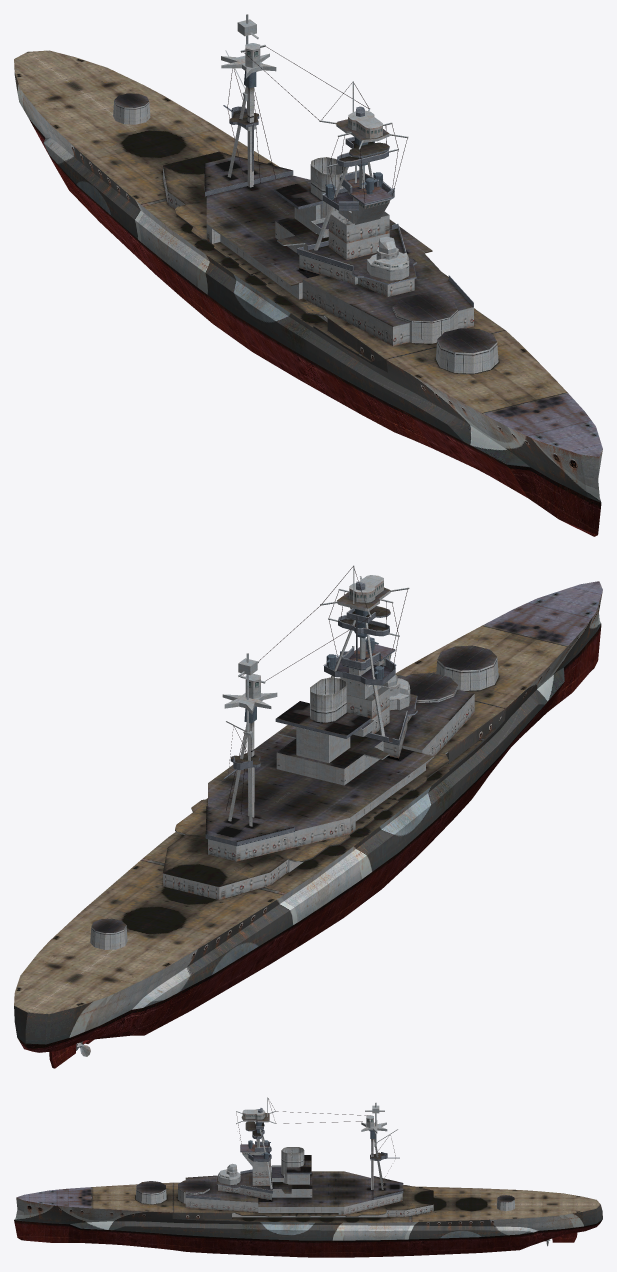
The model's file is Ship_2.FBX.
The picture shows the model from 3 angles, top to bottom: view 1: azimuth 30°, elevation 25°; view 2: azimuth 150°, elevation 25°; view 3: azimuth 270°, elevation 25°; orthographic projection. The views are drawn at different scales.
Parts seen in each view (by area): view 1: Ship_2; view 2: Ship_2; view 3: Ship_2.
Boxes of the visible parts, box(x1,y1,x2,y2) form: Ship_2: box(14, 14, 602, 536); Ship_2: box(14, 565, 602, 1068); Ship_2: box(14, 1097, 602, 1257).
Size of the model in its own units: 23.46 by 39.28 by 142.
1 material, 1 textured.
